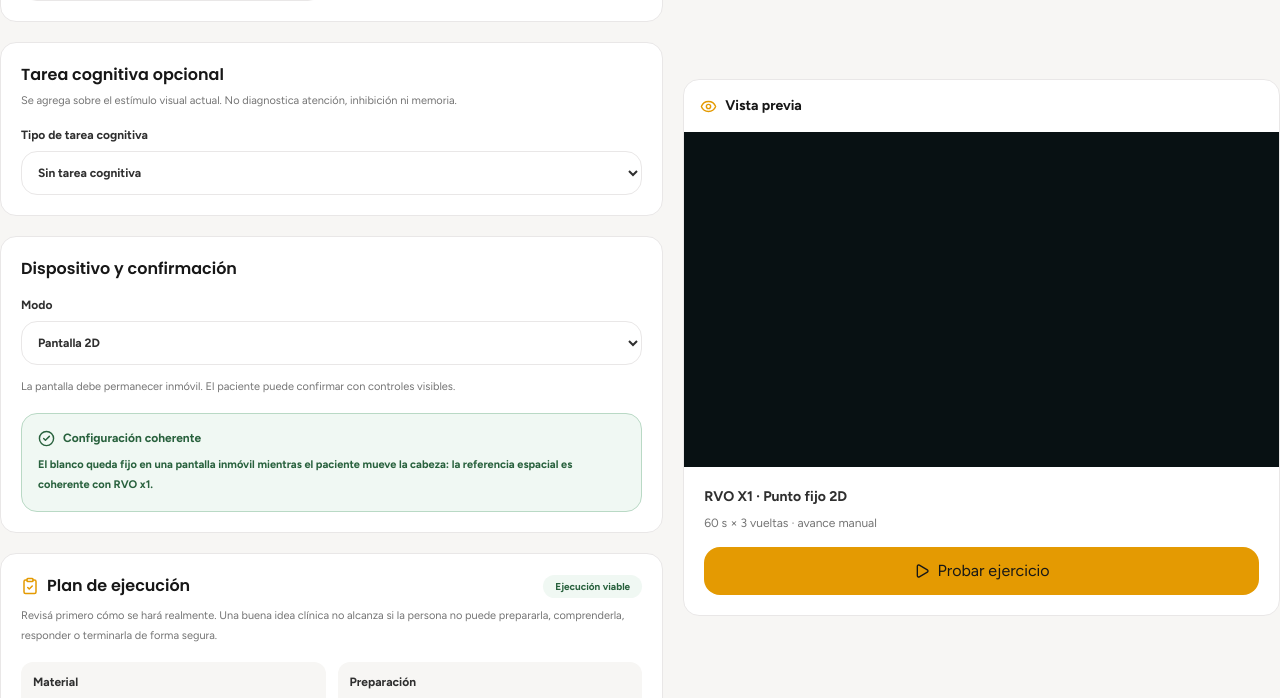
creación de ejercicios › guarda perfiles ópticos diferentes por combinación teléfono y visor
(page scrolled)
Select "VR Box · presentación binocular 2D" in the dropdown labelled "Modo" at (332, 343), box top-left (21, 321), bottom-right (642, 365)
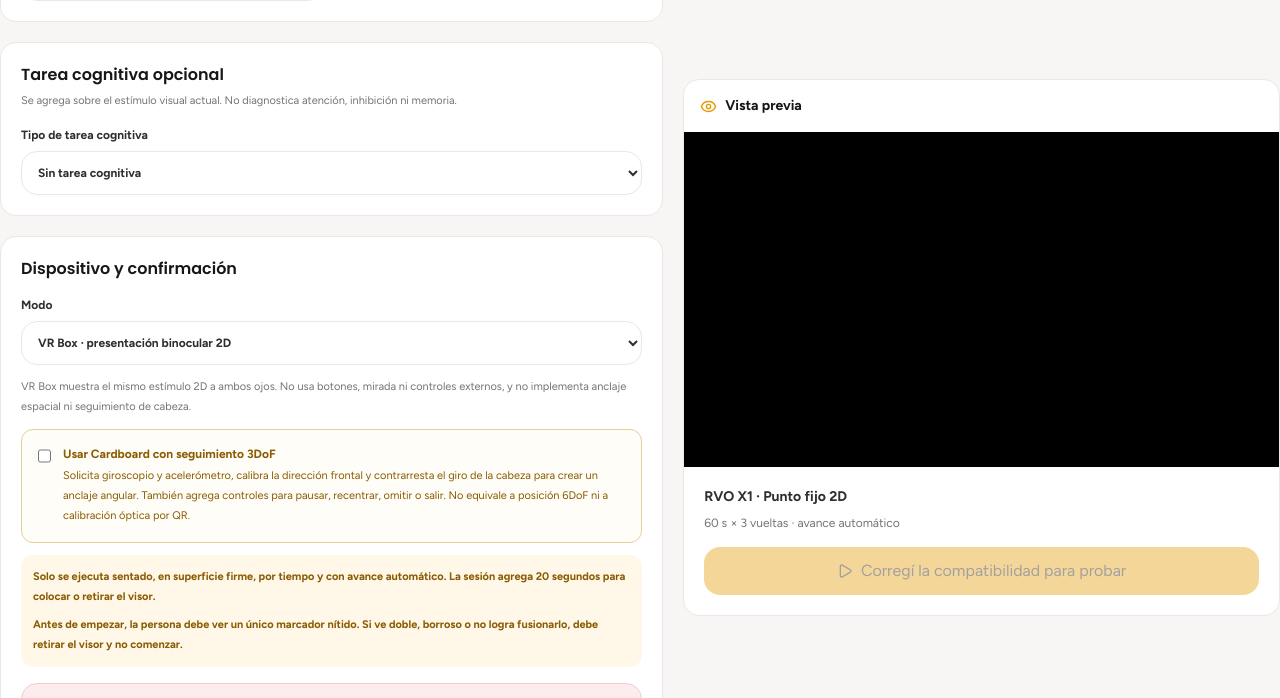
Click the checkbox named "Habilitar perfil Cardboard" at (44, 456), box top-left (38, 448), bottom-right (51, 464)
(page scrolled)
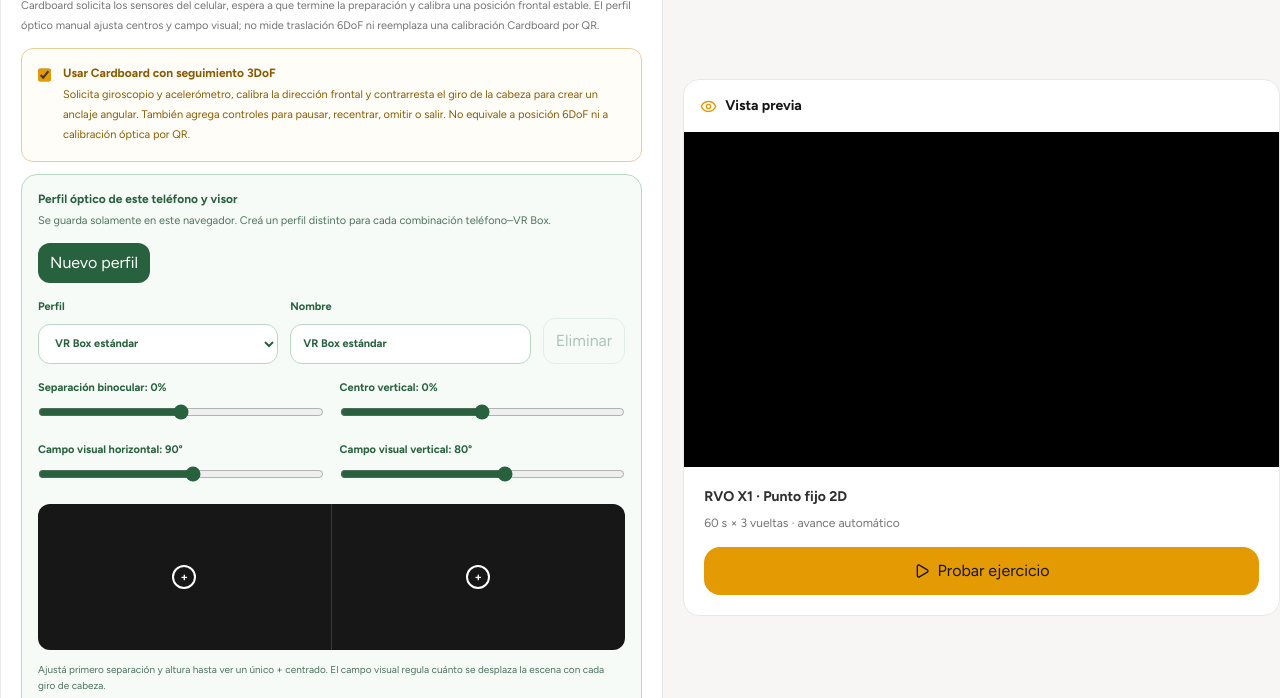
Replace the text in the field named "Nombre del perfil óptico" with "Celular A · VR Box 1" at (410, 344), box top-left (290, 324), bottom-right (531, 364)
Set the slider labelled "Separación binocular" to "6" at (235, 412), box top-left (38, 404), bottom-right (324, 420)
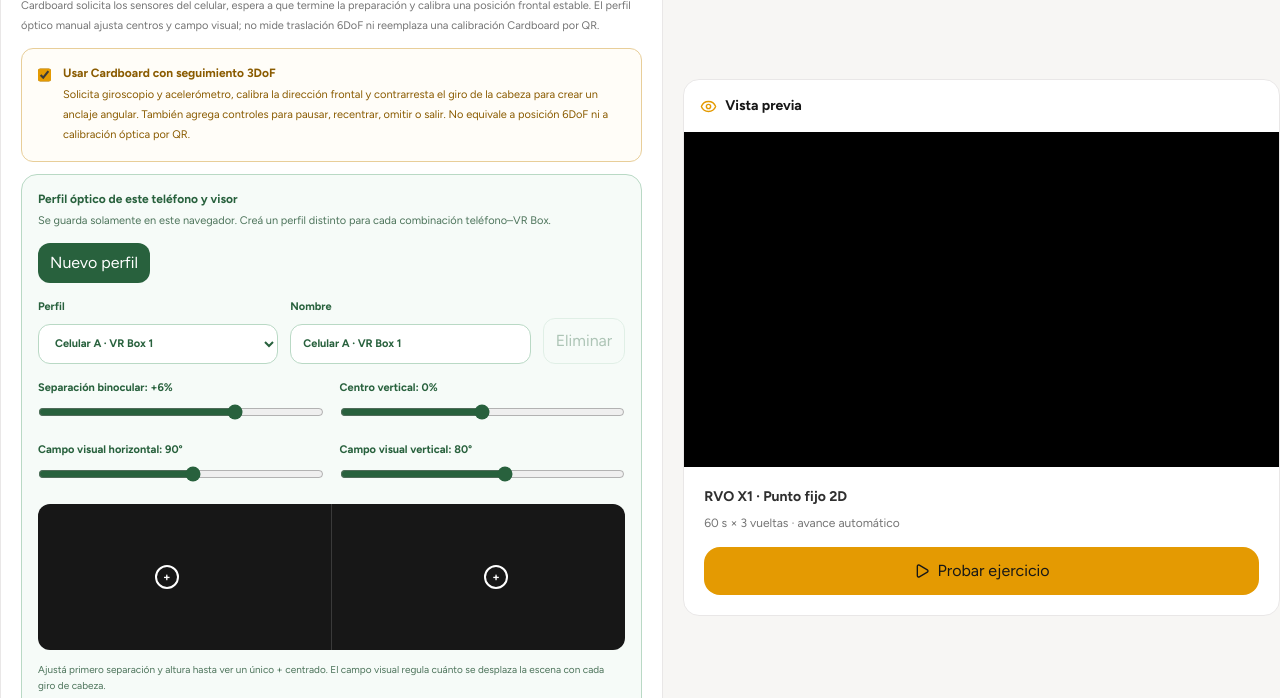
Set the slider labelled "Centro vertical" to "-3" at (455, 412), box top-left (340, 404), bottom-right (625, 420)
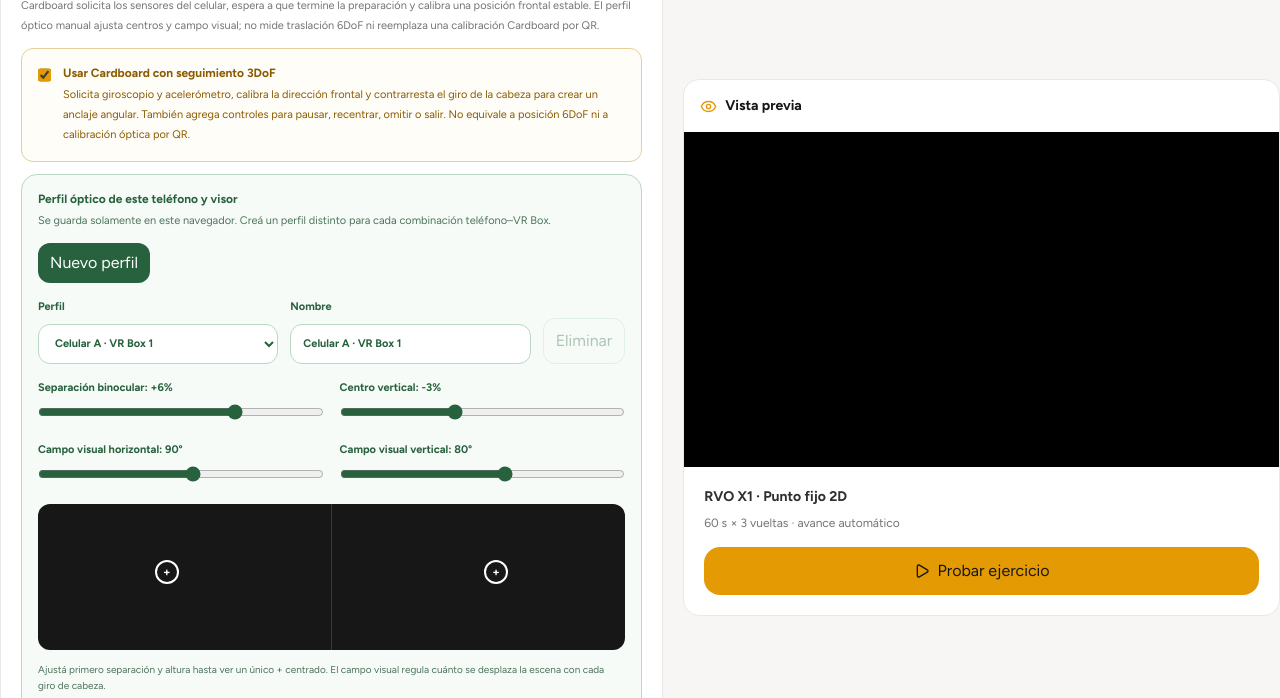
Set the slider labelled "Campo visual horizontal" to "96" at (222, 474), box top-left (38, 466), bottom-right (324, 482)
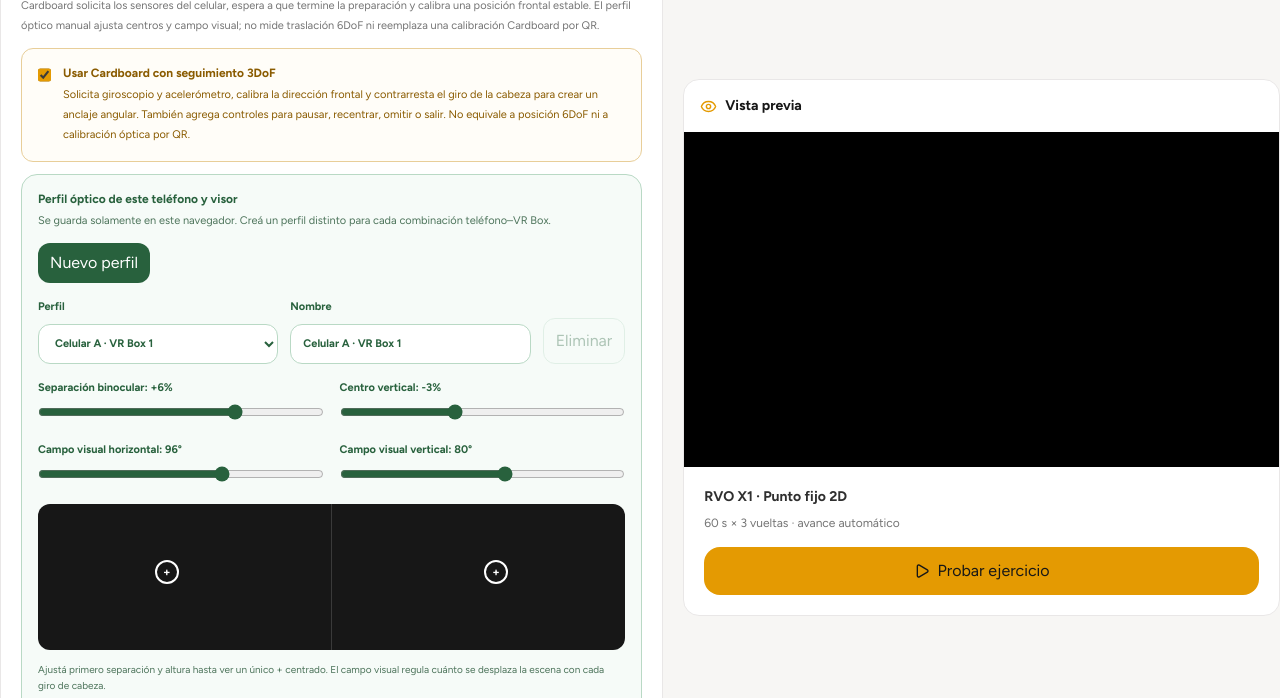
Click the button "Nuevo perfil" at (94, 263), box top-left (38, 243), bottom-right (150, 283)
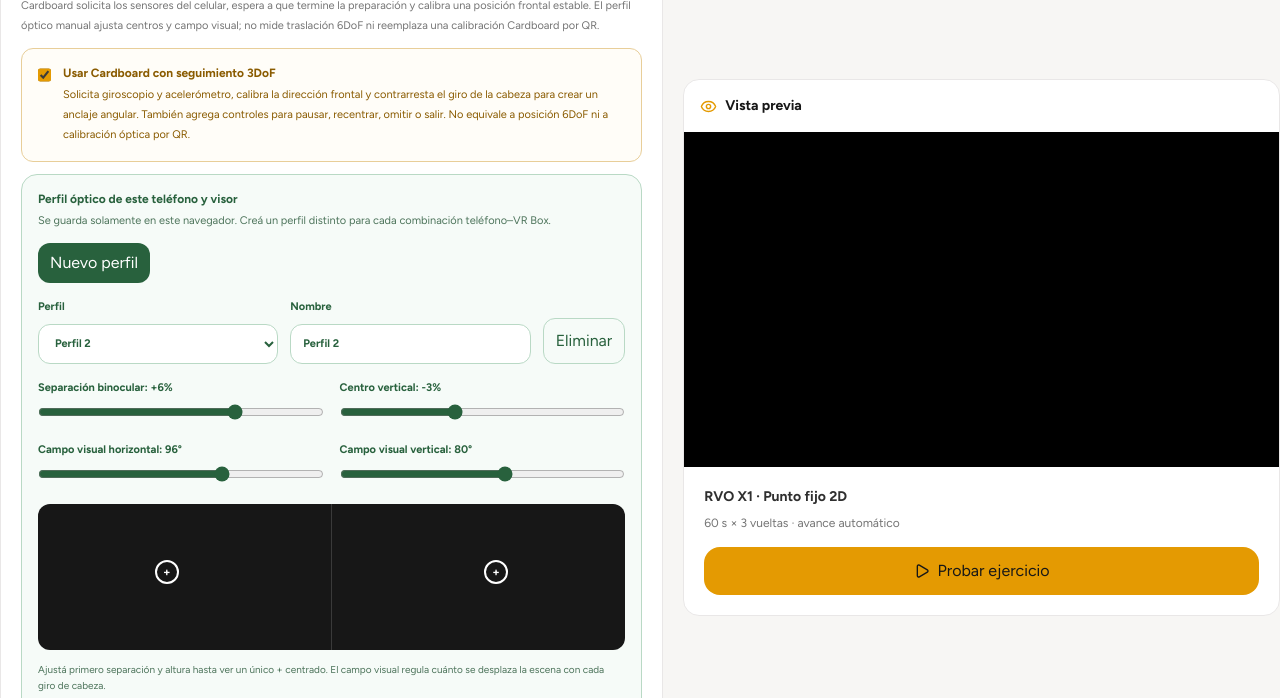
Check: the dropdown named "Perfil óptico Cardboard" shows "Perfil 2", box top-left (38, 324), bottom-right (278, 364)
